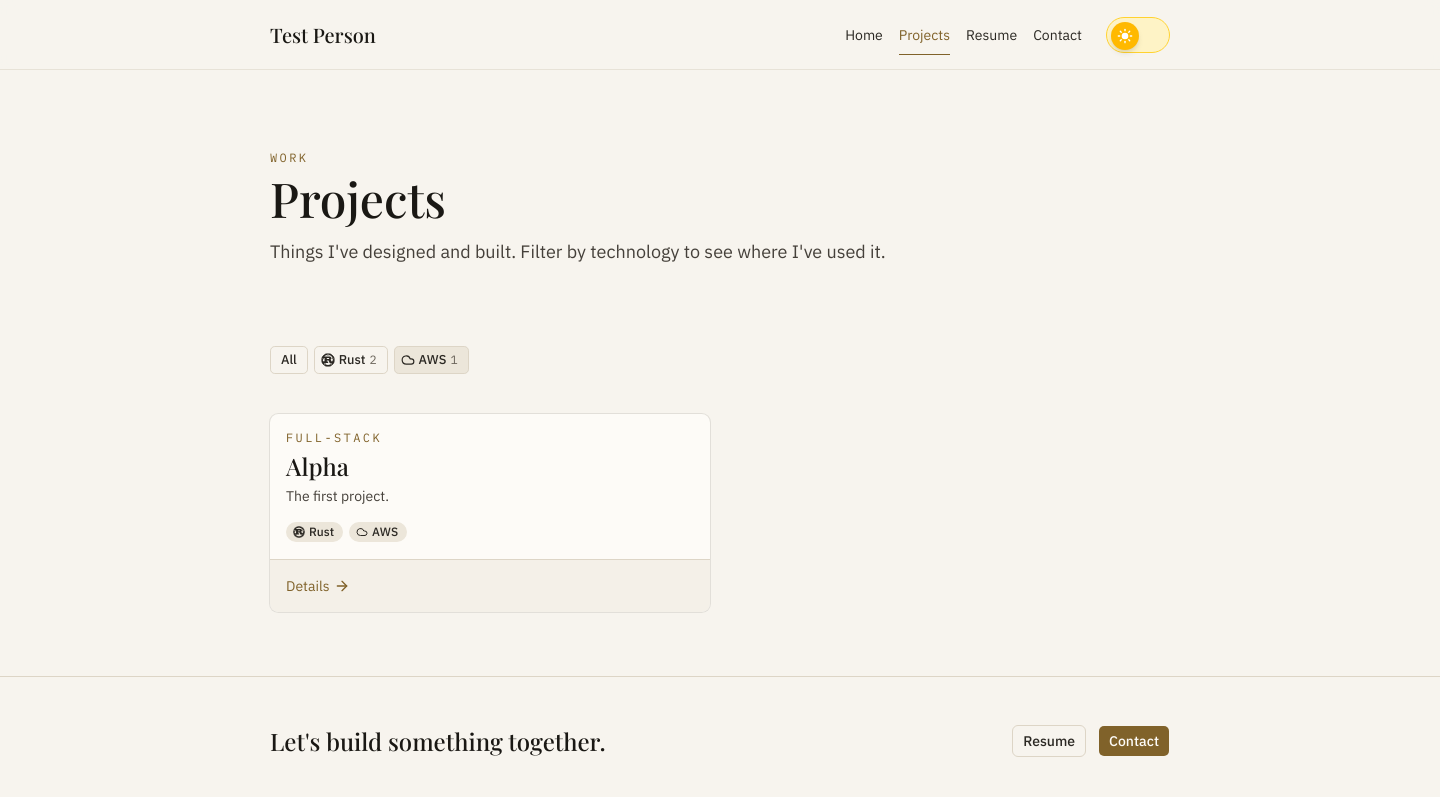
Scenario: projects › filters by the ?tag= in the URL, case-insensitively
Expected: the link "Alpha" is shown, [286,450,349,482]
Expected: the link "Beta" is not shown
Click the radio button labelled "All" at {"x": 289, "y": 360}, box [270,346,308,374]
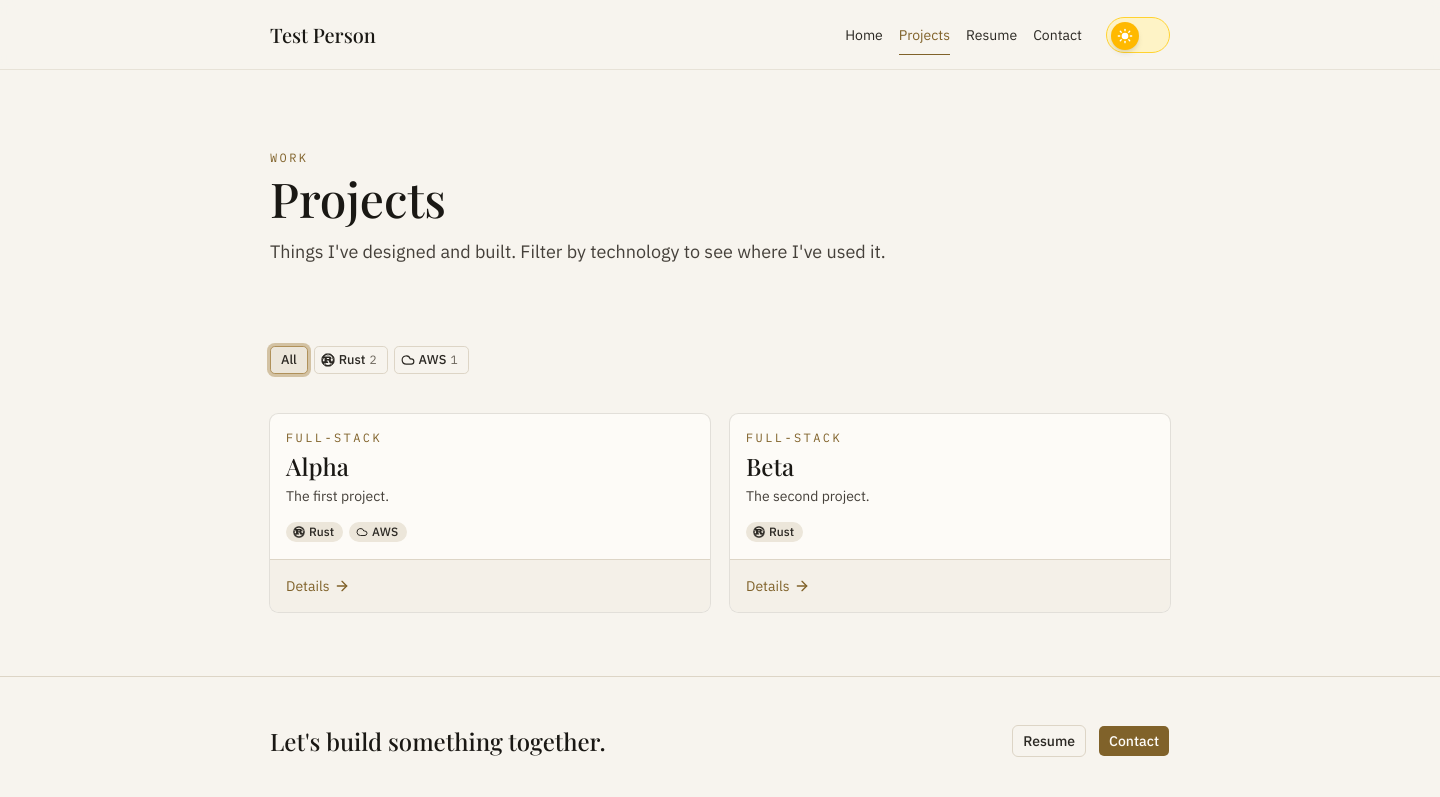
Expected: the link "Beta" is shown, [746,450,794,482]
